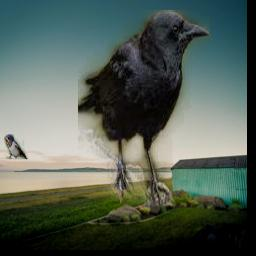Crow: (78, 10, 210, 206)
Swallow: (4, 135, 28, 160)
